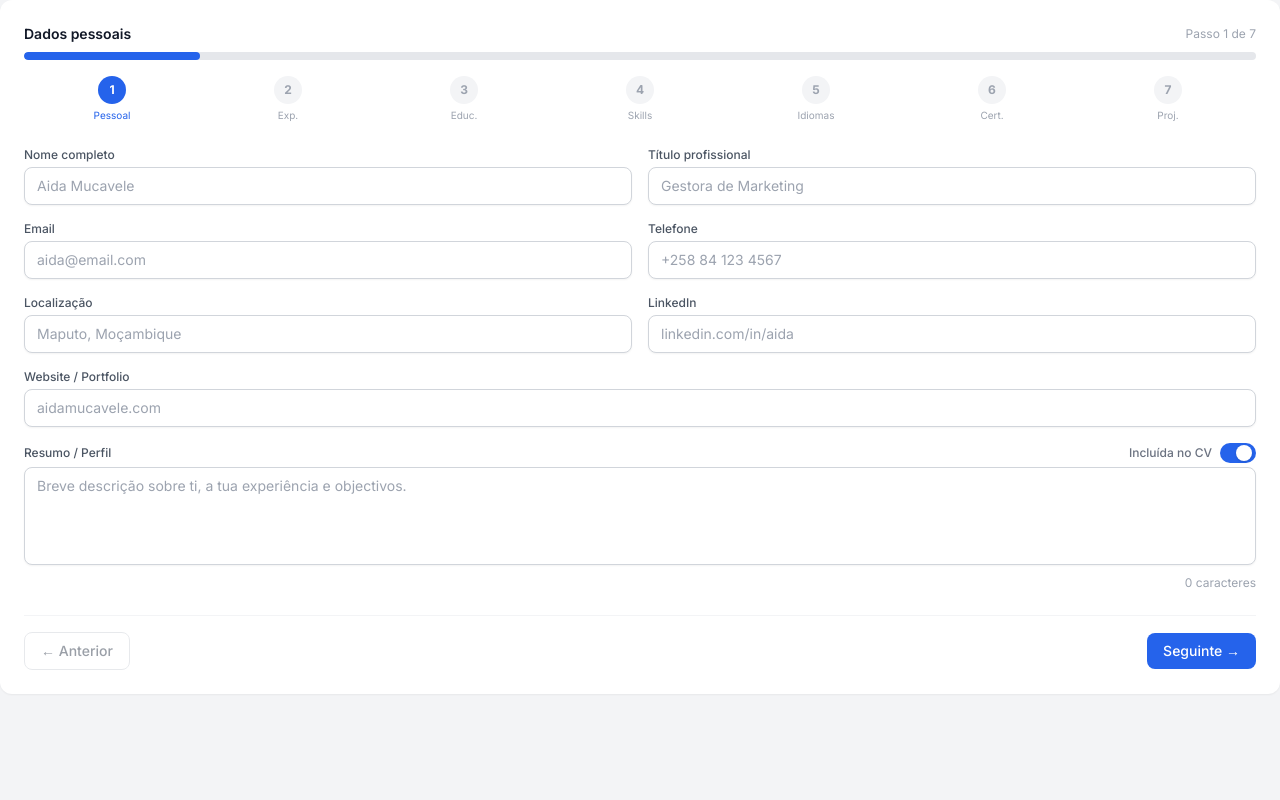
Test: FormWizard › avança para o passo seguinte
This screenshot has width=1280, height=800.
Click the button "Seguinte →": (1202, 651) [1147,633,1256,669]
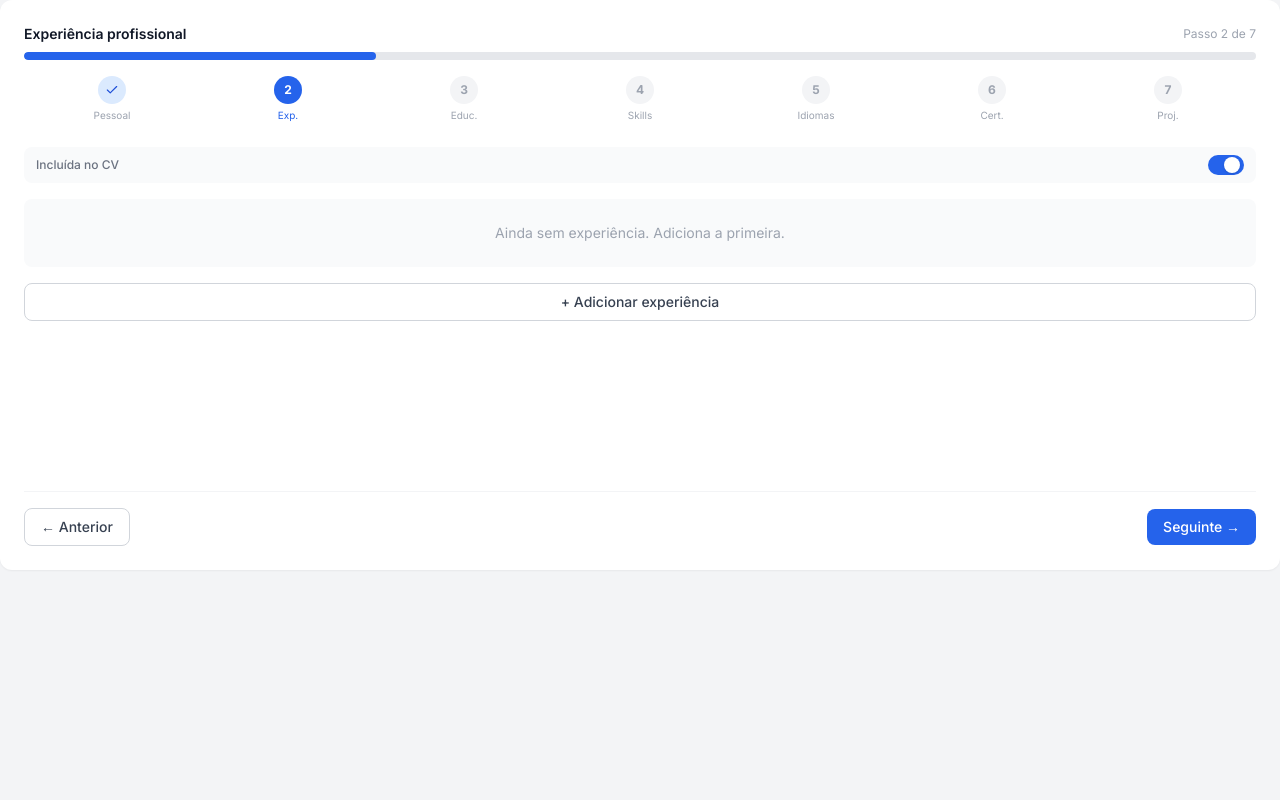
Expected: the text "Experiência profissional" is shown, [24,24,186,44]
Expected: the text "Passo 2 de 7" is shown, [1183,26,1256,42]
